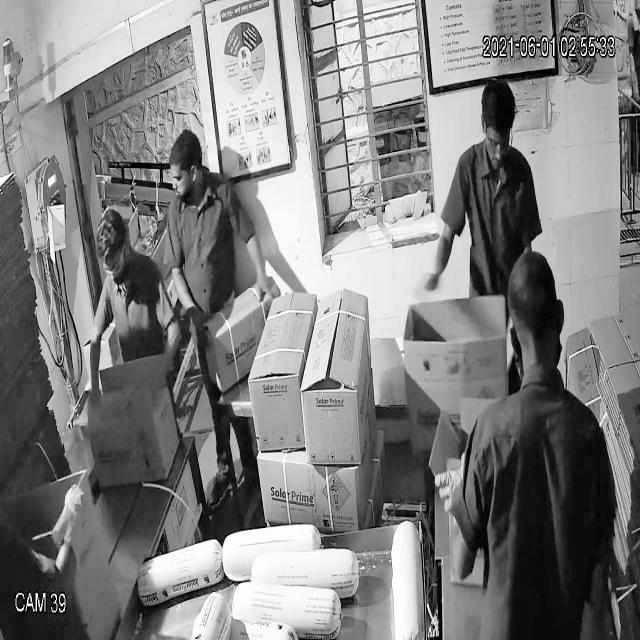glasses: (478, 120, 516, 159)
